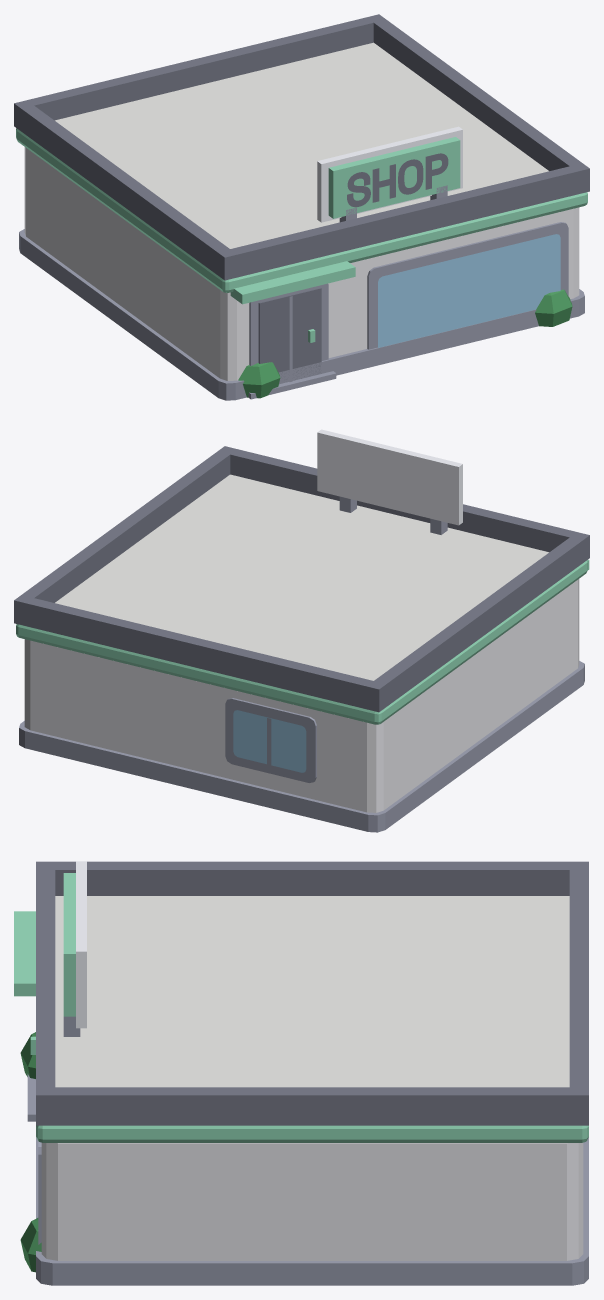
File: shop-general-1x1-t1-tone-a.glb
The picture shows the model from 3 angles, top to bottom: view 1: azimuth 30°, elevation 25°; view 2: azimuth 150°, elevation 25°; view 3: azimuth 270°, elevation 25°; orthographic projection. The views are drawn at different scales.
Parts seen in each view (by area): view 1: shop-general-1x1-t1-tone-a; view 2: shop-general-1x1-t1-tone-a; view 3: shop-general-1x1-t1-tone-a.
Part boxes in pixels (<box>): shop-general-1x1-t1-tone-a: <box>14,14,589,400</box>; shop-general-1x1-t1-tone-a: <box>14,429,589,832</box>; shop-general-1x1-t1-tone-a: <box>14,861,588,1285</box>.
Bounding box in the file's own units: 1 × 0.524 × 1.04.
1 material, 1 textured.
